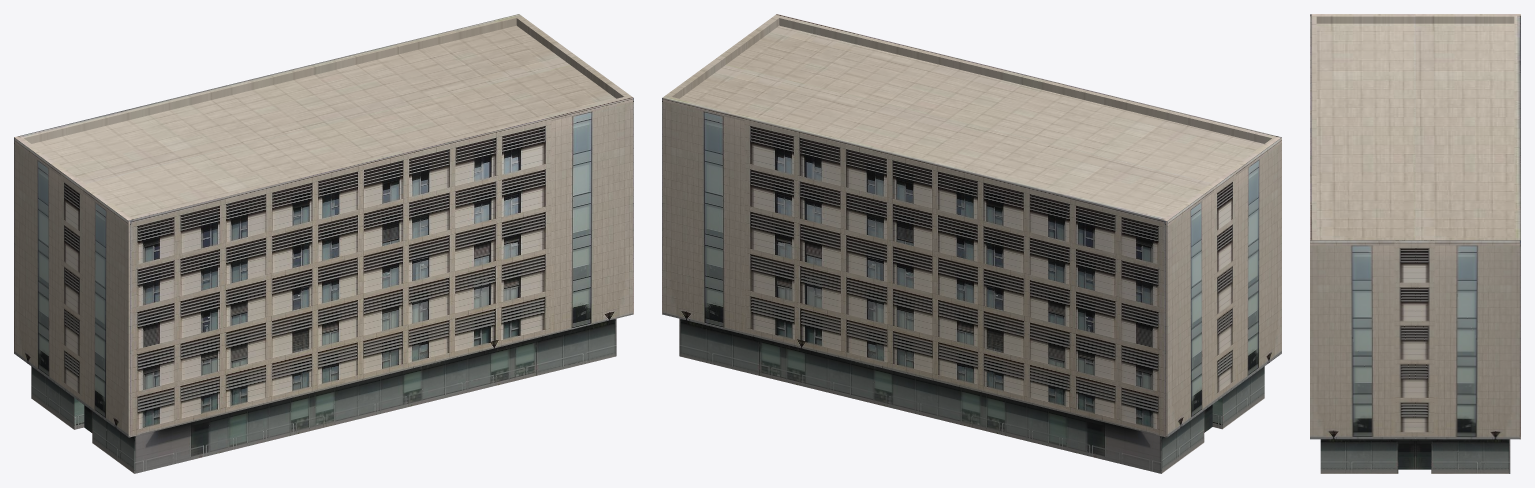
The model's file is building3_3.3.fbx.
3 renders of one model, left to right at view 1: azimuth 30°, elevation 25°; view 2: azimuth 150°, elevation 25°; view 3: azimuth 270°, elevation 25°, orthographic. The views are drawn at different scales.
Parts seen in each view (by area): view 1: Cube_Material_0; view 2: Cube_Material_0; view 3: Cube_Material_0.
Boxes of the visible parts, bbox=[...] form: Cube_Material_0: bbox=[14, 14, 633, 473]; Cube_Material_0: bbox=[662, 14, 1281, 473]; Cube_Material_0: bbox=[1310, 14, 1520, 473].
Bounding box in the file's own units: 3559 × 1750 × 1400.
Materials: 1 (1 with a texture image).
